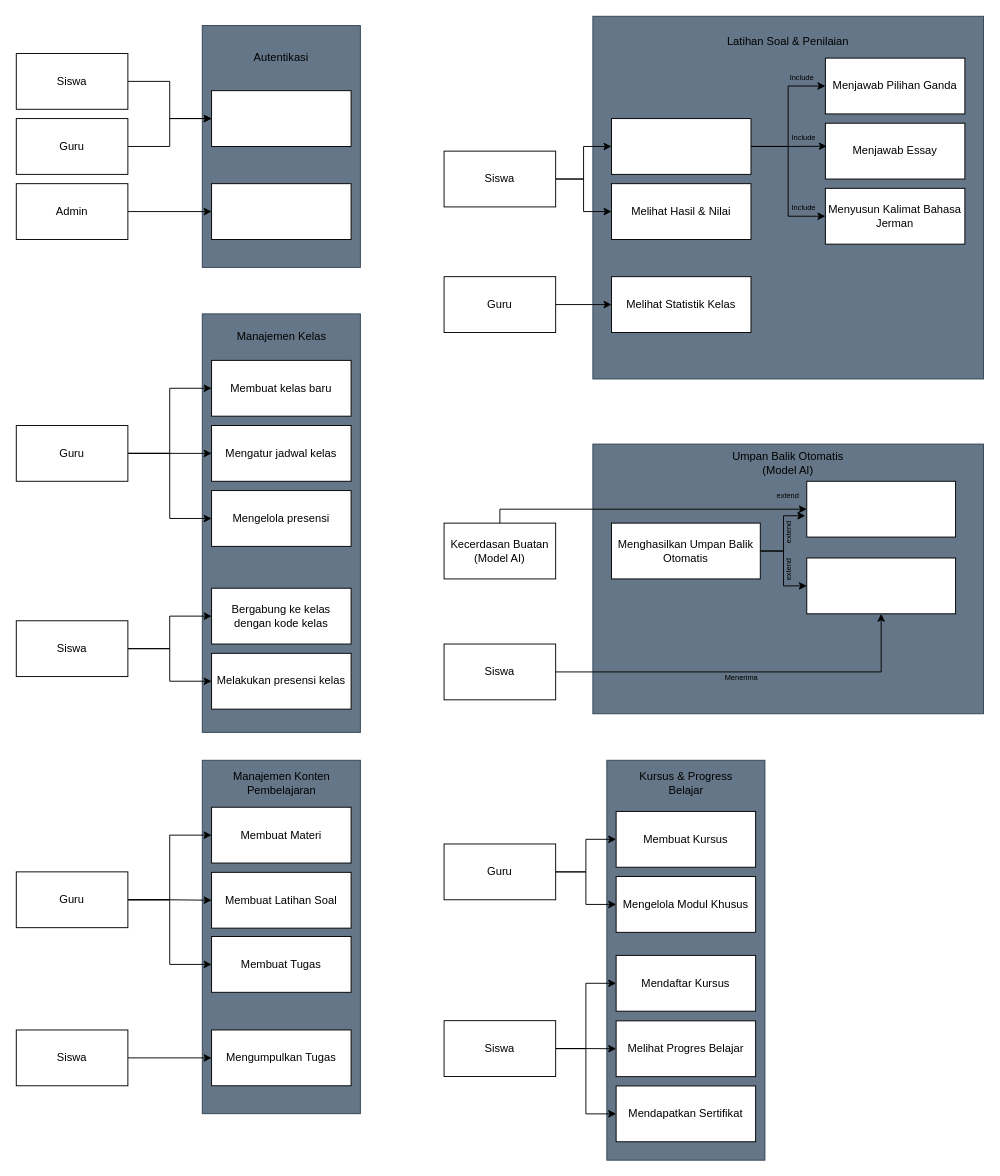
The diagram is 1000 pixels wide and 1176 high, and some of its shapes have lost their labels. The shapes that lost their labels are listed below. From the top down, each one's box as (x1, y1, x2, y2) in pixels, then its label:
(211, 90, 351, 146): Masuk / Daftar akun
(611, 118, 751, 174): Mengerjakan latihan soal
(211, 183, 351, 239): Kelola data pengguna
(806, 480, 956, 537): Menyimpan Umpan Balik untuk Digunakan Ulang
(806, 557, 956, 614): Menampilkan Umpan Balik Terstruktur 6 Langkah
